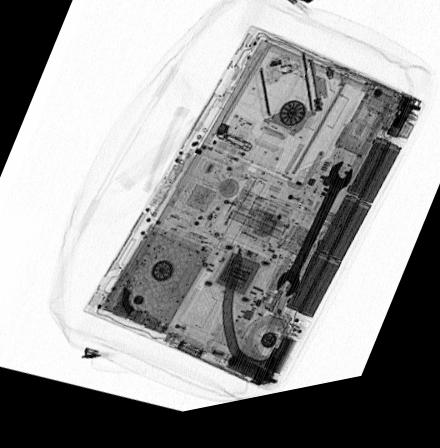Wrench: (274, 173, 353, 311)
